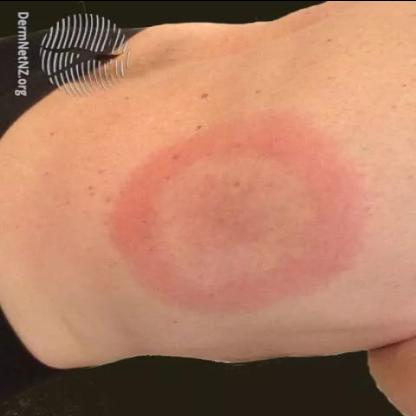Tick: (103, 102, 377, 318)
